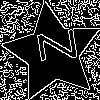Z: (27, 27, 78, 65)
